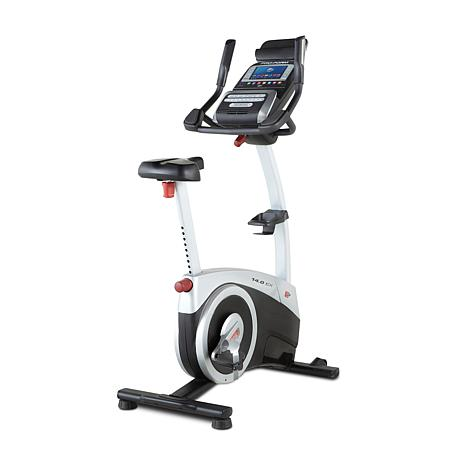gym_bike: (118, 34, 343, 437)
